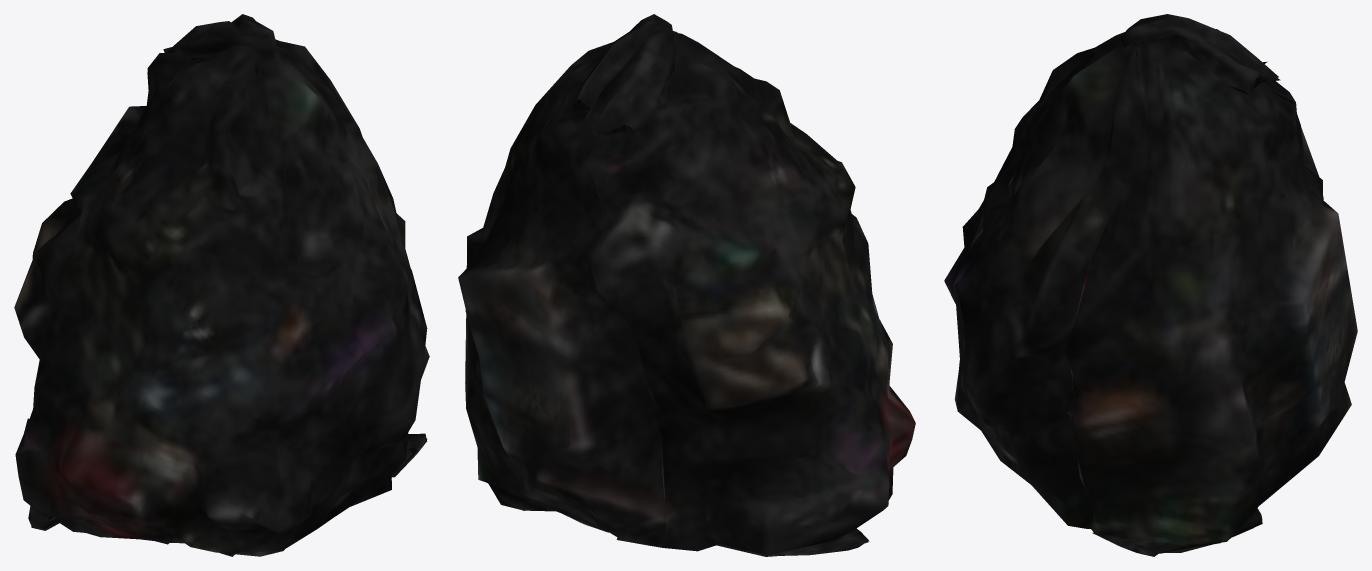
File: trash_bag.glb
3 renders of one model, left to right at view 1: azimuth 30°, elevation 25°; view 2: azimuth 150°, elevation 25°; view 3: azimuth 270°, elevation 25°, orthographic. The views are drawn at different scales.
Parts seen in each view (by area): view 1: trashbag; view 2: trashbag; view 3: trashbag.
Boxes of the visible parts, left/top/right/bottom form: trashbag: left=14, top=14, right=429, bottom=556; trashbag: left=458, top=14, right=915, bottom=556; trashbag: left=944, top=14, right=1357, bottom=556.
Size of the model in its own units: 0.5238 by 0.5749 by 0.466.
Materials: 1 (1 with a texture image).
